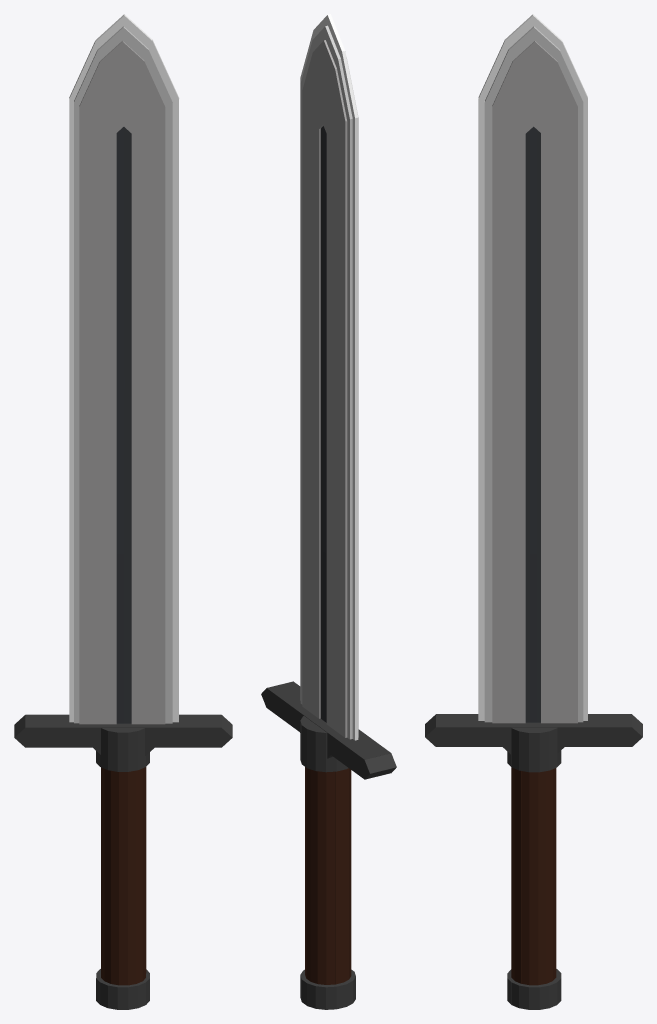
3 renders of one model, left to right at view 1: azimuth 90°, elevation 25°; view 2: azimuth 210°, elevation 25°; view 3: azimuth 270°, elevation 25°, orthographic.
Parts seen in each view (by area): view 1: 148e33c8-2f36-5e2e-6a52-fae27ed6d9bd, 151810dc-af76-fa82-ad5a-9c4bf4dba839, fb6928e3-756b-89d9-a3e1-f0869d471934, 11b81f09-0a6e-a055-031c-50367698178b, 5580f27a-d99c-8ca4-f9d8-828b4b530e3c, 53549632-ae5d-db99-b4a9-055dfc0623a0, 46c6e81f-a4e4-58a7-1279-8bd7cb4afb64, 75180035-d01c-ee90-8493-4835518d2603, 5335869c-7967-5cb1-d957-9504ccaf548f, 36aa2791-c672-5497-c950-1f2174f158fa, acf6ccf9-9aab-c58e-c38e-45e6a9ee04c6, e6779837-ca00-a195-cea8-510243bbbc71 (+10 smaller); view 2: 148e33c8-2f36-5e2e-6a52-fae27ed6d9bd, 151810dc-af76-fa82-ad5a-9c4bf4dba839, 11b81f09-0a6e-a055-031c-50367698178b, 5580f27a-d99c-8ca4-f9d8-828b4b530e3c, fb6928e3-756b-89d9-a3e1-f0869d471934, 6b27add5-c25f-004e-1755-c7da0e8d78a8, a4b4e011-1119-18bf-bc02-28ed8c687dc2, 53549632-ae5d-db99-b4a9-055dfc0623a0, f2af0976-754b-a8b0-59f3-48c1dd68c4b0, 019eea2f-0ac0-7e54-9bfd-d30c035808fc, 46c6e81f-a4e4-58a7-1279-8bd7cb4afb64, a9656746-d107-3cd7-688d-170ccc925851 (+13 smaller); view 3: 148e33c8-2f36-5e2e-6a52-fae27ed6d9bd, 151810dc-af76-fa82-ad5a-9c4bf4dba839, fb6928e3-756b-89d9-a3e1-f0869d471934, 11b81f09-0a6e-a055-031c-50367698178b, 5580f27a-d99c-8ca4-f9d8-828b4b530e3c, 53549632-ae5d-db99-b4a9-055dfc0623a0, 46c6e81f-a4e4-58a7-1279-8bd7cb4afb64, 75180035-d01c-ee90-8493-4835518d2603, 1c27ed7f-b333-f00f-a82f-2ac84fae432b, 412c0233-63b6-7c56-0d47-3f02ec6646a7, 019eea2f-0ac0-7e54-9bfd-d30c035808fc, d2fa09c8-cade-dca4-1019-2076322b8a37 (+10 smaller).
Part boxes in pixels (left/top/right/bottom): 148e33c8-2f36-5e2e-6a52-fae27ed6d9bd: left=79, top=107, right=116, bottom=724; 151810dc-af76-fa82-ad5a-9c4bf4dba839: left=131, top=107, right=165, bottom=724; fb6928e3-756b-89d9-a3e1-f0869d471934: left=116, top=127, right=131, bottom=723; 11b81f09-0a6e-a055-031c-50367698178b: left=74, top=102, right=172, bottom=723; 5580f27a-d99c-8ca4-f9d8-828b4b530e3c: left=69, top=99, right=178, bottom=722; 53549632-ae5d-db99-b4a9-055dfc0623a0: left=25, top=714, right=145, bottom=747; 46c6e81f-a4e4-58a7-1279-8bd7cb4afb64: left=103, top=714, right=221, bottom=747; 75180035-d01c-ee90-8493-4835518d2603: left=97, top=61, right=165, bottom=123; 5335869c-7967-5cb1-d957-9504ccaf548f: left=128, top=770, right=136, bottom=985; 36aa2791-c672-5497-c950-1f2174f158fa: left=119, top=772, right=127, bottom=985; acf6ccf9-9aab-c58e-c38e-45e6a9ee04c6: left=111, top=770, right=118, bottom=985; e6779837-ca00-a195-cea8-510243bbbc71: left=136, top=768, right=142, bottom=983; 148e33c8-2f36-5e2e-6a52-fae27ed6d9bd: left=326, top=108, right=347, bottom=737; 151810dc-af76-fa82-ad5a-9c4bf4dba839: left=302, top=90, right=320, bottom=718; 11b81f09-0a6e-a055-031c-50367698178b: left=300, top=84, right=358, bottom=739; 5580f27a-d99c-8ca4-f9d8-828b4b530e3c: left=300, top=79, right=358, bottom=740; fb6928e3-756b-89d9-a3e1-f0869d471934: left=320, top=126, right=326, bottom=722; 6b27add5-c25f-004e-1755-c7da0e8d78a8: left=317, top=771, right=326, bottom=984; a4b4e011-1119-18bf-bc02-28ed8c687dc2: left=326, top=771, right=334, bottom=984; 53549632-ae5d-db99-b4a9-055dfc0623a0: left=305, top=714, right=390, bottom=779; f2af0976-754b-a8b0-59f3-48c1dd68c4b0: left=336, top=770, right=343, bottom=984; 019eea2f-0ac0-7e54-9bfd-d30c035808fc: left=310, top=769, right=317, bottom=983; 46c6e81f-a4e4-58a7-1279-8bd7cb4afb64: left=266, top=681, right=325, bottom=731; a9656746-d107-3cd7-688d-170ccc925851: left=343, top=768, right=348, bottom=981; 148e33c8-2f36-5e2e-6a52-fae27ed6d9bd: left=541, top=107, right=577, bottom=723; 151810dc-af76-fa82-ad5a-9c4bf4dba839: left=492, top=107, right=525, bottom=723; fb6928e3-756b-89d9-a3e1-f0869d471934: left=525, top=126, right=540, bottom=722; 11b81f09-0a6e-a055-031c-50367698178b: left=484, top=101, right=583, bottom=722; 5580f27a-d99c-8ca4-f9d8-828b4b530e3c: left=478, top=97, right=587, bottom=720; 53549632-ae5d-db99-b4a9-055dfc0623a0: left=512, top=714, right=631, bottom=746; 46c6e81f-a4e4-58a7-1279-8bd7cb4afb64: left=436, top=714, right=512, bottom=746; 75180035-d01c-ee90-8493-4835518d2603: left=492, top=61, right=559, bottom=123; 1c27ed7f-b333-f00f-a82f-2ac84fae432b: left=529, top=772, right=538, bottom=985; 412c0233-63b6-7c56-0d47-3f02ec6646a7: left=521, top=771, right=529, bottom=984; 019eea2f-0ac0-7e54-9bfd-d30c035808fc: left=538, top=771, right=546, bottom=984; d2fa09c8-cade-dca4-1019-2076322b8a37: left=514, top=769, right=521, bottom=983.
Size of the model in its own units: 105 by 2067 by 416.
